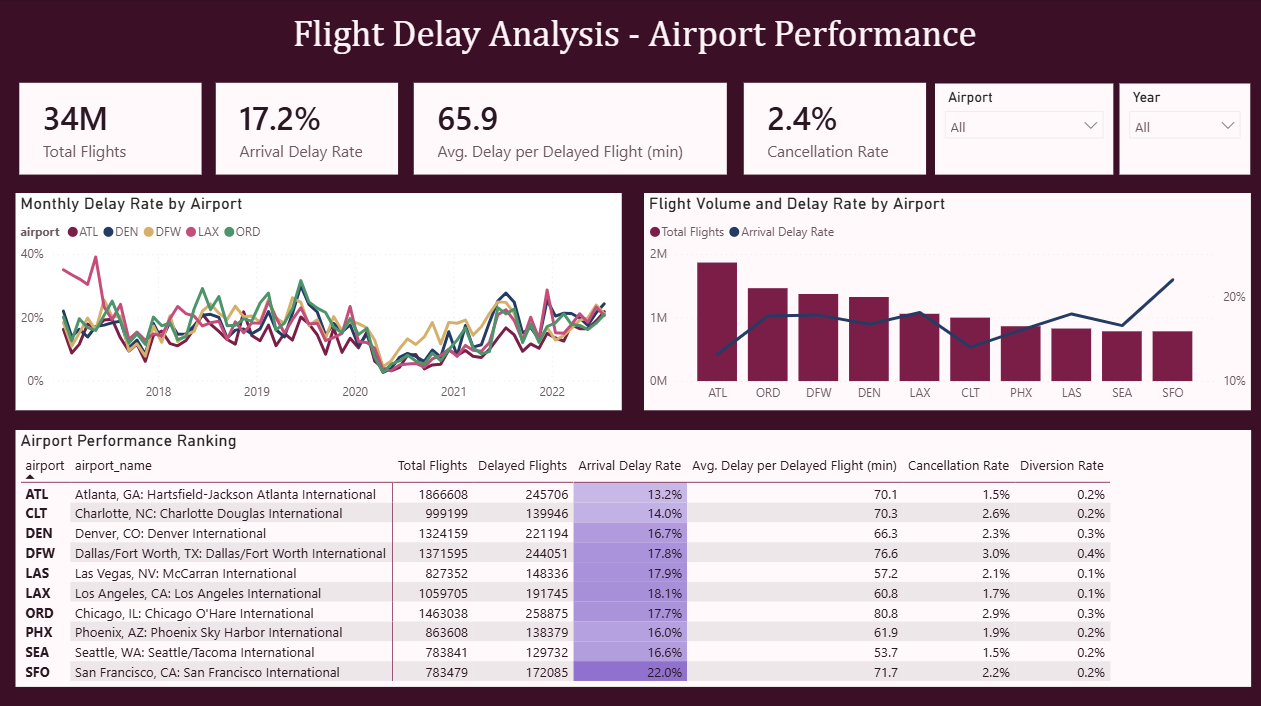

The dashboard page shown, as its layout file describes it:
{"tool":"powerbi","page":{"name":"Airport Performance","canvas":[1280,720],"ordinal":2},"visuals":[{"type":"textbox","box":[8.9,8.1,1271.1,56.7],"z":0},{"type":"slicer","fields":{"Values":["airline.year"]},"box":[1134.1,85.9,132,92.3],"z":1000},{"type":"lineChart","title":"Monthly Delay Rate by Airport","fields":{"Y":["airline.Arrival Delay Rate"],"Category":["airline.MonthDate"],"Series":["airline.airport"]},"box":[19.1,197.2,612,219],"z":2000},{"type":"lineClusteredColumnComboChart","title":"Flight Volume and Delay Rate by Airport","fields":{"Y":["airline.Total Flights"],"Y2":["airline.Arrival Delay Rate"],"Category":["airline.airport"]},"box":[653.7,197.2,612.4,219.5],"z":3000},{"type":"pivotTable","title":"Airport Performance Ranking","fields":{"Values":["airline.Total Flights","airline.Delayed Flights","airline.Arrival Delay Rate","airline.Avg Delay per Delayed Flight","airline.Cancellation Rate","airline.Diversion Rate"],"Rows":["airline.airport","airline.airport_name"]},"box":[19.1,435.8,1247,259.3],"z":4000},{"type":"slicer","fields":{"Values":["airline.airport_name"]},"box":[948.6,85.9,179.7,92.3],"z":5000},{"type":"cardVisual","fields":{"Data":["airline.Total Flights"]},"box":[17.5,80.6,194.1,103.4],"z":6000},{"type":"cardVisual","fields":{"Data":["airline.Arrival Delay Rate"]},"box":[217.3,80.6,194.1,103.4],"z":7000},{"type":"cardVisual","fields":{"Data":["airline.Cancellation Rate"]},"box":[748.9,80.6,194.1,103.4],"z":8000},{"type":"cardVisual","fields":{"Data":["airline.Average Delay per Delayed Flight"]},"box":[417.1,80.6,326.1,103.4],"z":9000}]}

Visuals, with their boxes in screenshot pixels (x1, y1, x2, y2), scaled from the page's 1280x720 canvas onto the 1261x706 screenshot:
textbox: left=9, top=8, right=1260, bottom=64
slicer - airline.year: left=1117, top=84, right=1247, bottom=175
"Monthly Delay Rate by Airport" lineChart: left=19, top=193, right=622, bottom=408
"Flight Volume and Delay Rate by Airport" lineClusteredColumnComboChart: left=644, top=193, right=1247, bottom=409
"Airport Performance Ranking" pivotTable: left=19, top=427, right=1247, bottom=682
slicer - airline.airport_name: left=935, top=84, right=1112, bottom=175
cardVisual - airline.Total Flights: left=17, top=79, right=208, bottom=180
cardVisual - airline.Arrival Delay Rate: left=214, top=79, right=405, bottom=180
cardVisual - airline.Cancellation Rate: left=738, top=79, right=929, bottom=180
cardVisual - airline.Average Delay per Delayed Flight: left=411, top=79, right=732, bottom=180
